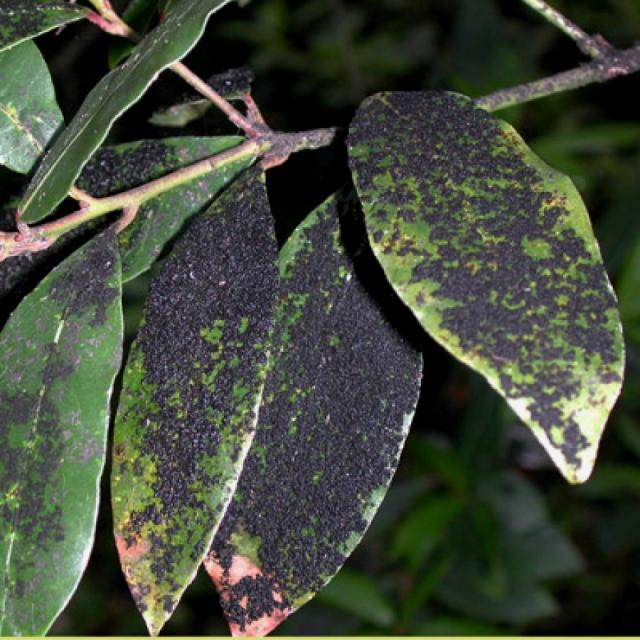Sooty Mold: (3, 67, 626, 635), (344, 87, 626, 485)
